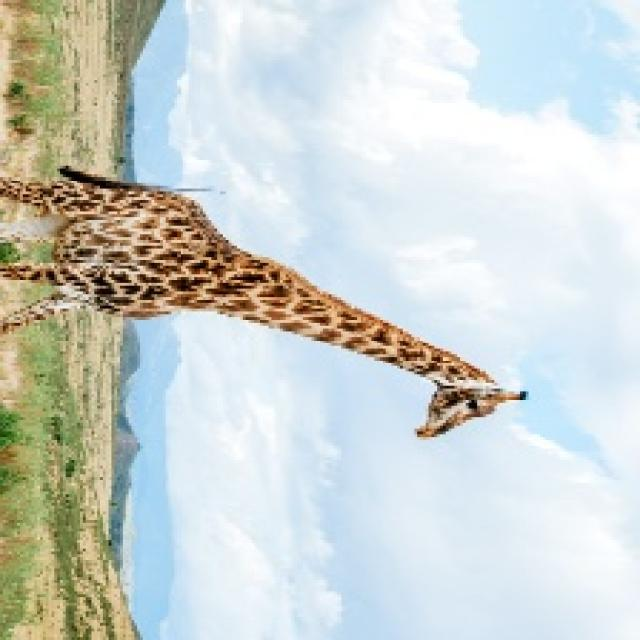bear: (133, 77, 564, 540)
